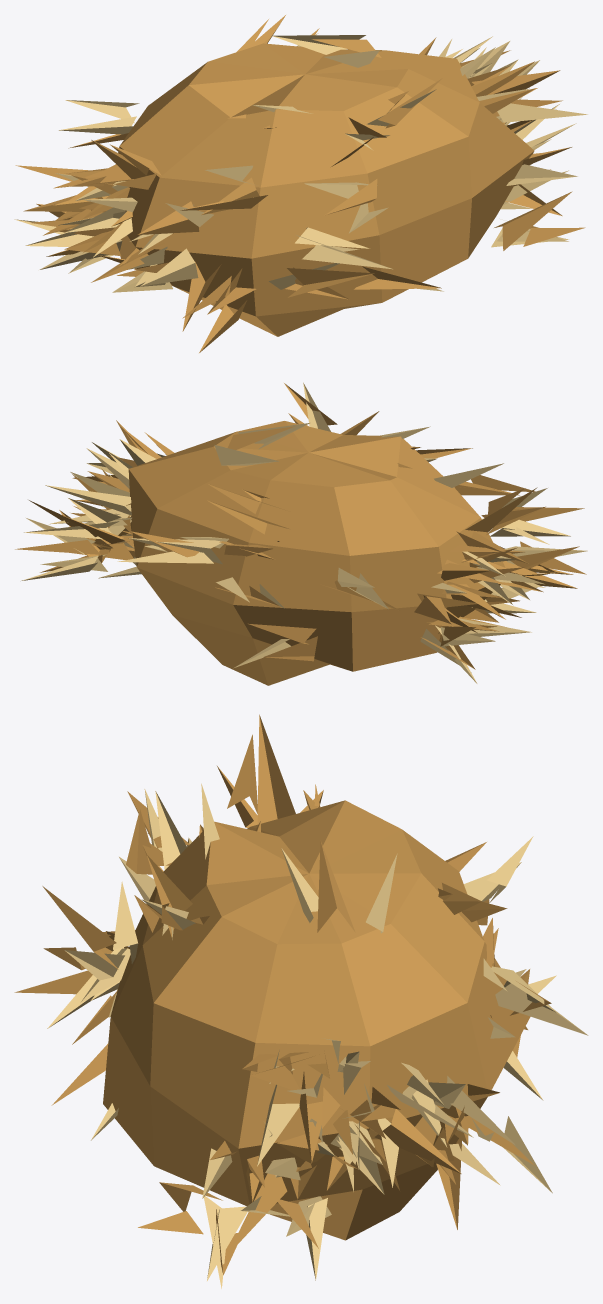
Rendered from carried.glb.
3 views of the same model, one above another, from view 1: azimuth 30°, elevation 25°; view 2: azimuth 150°, elevation 25°; view 3: azimuth 270°, elevation 25° (orthographic). The views are drawn at different scales.
Parts seen in each view (by area): view 1: hay, straw_gold, straw_light; view 2: hay, straw_gold, straw_light; view 3: hay, straw_gold, straw_light.
Part boxes in pixels (<box>): hay: <box>113,43,534,336</box>; straw_gold: <box>15,15,585,352</box>; straw_light: <box>14,33,587,292</box>; hay: <box>128,421,505,685</box>; straw_gold: <box>15,383,586,669</box>; straw_light: <box>21,382,587,683</box>; hay: <box>103,800,530,1240</box>; straw_gold: <box>14,714,551,1274</box>; straw_light: <box>47,783,588,1288</box>.
Size of the model in its own units: 0.6101 by 0.2801 by 0.4304.
